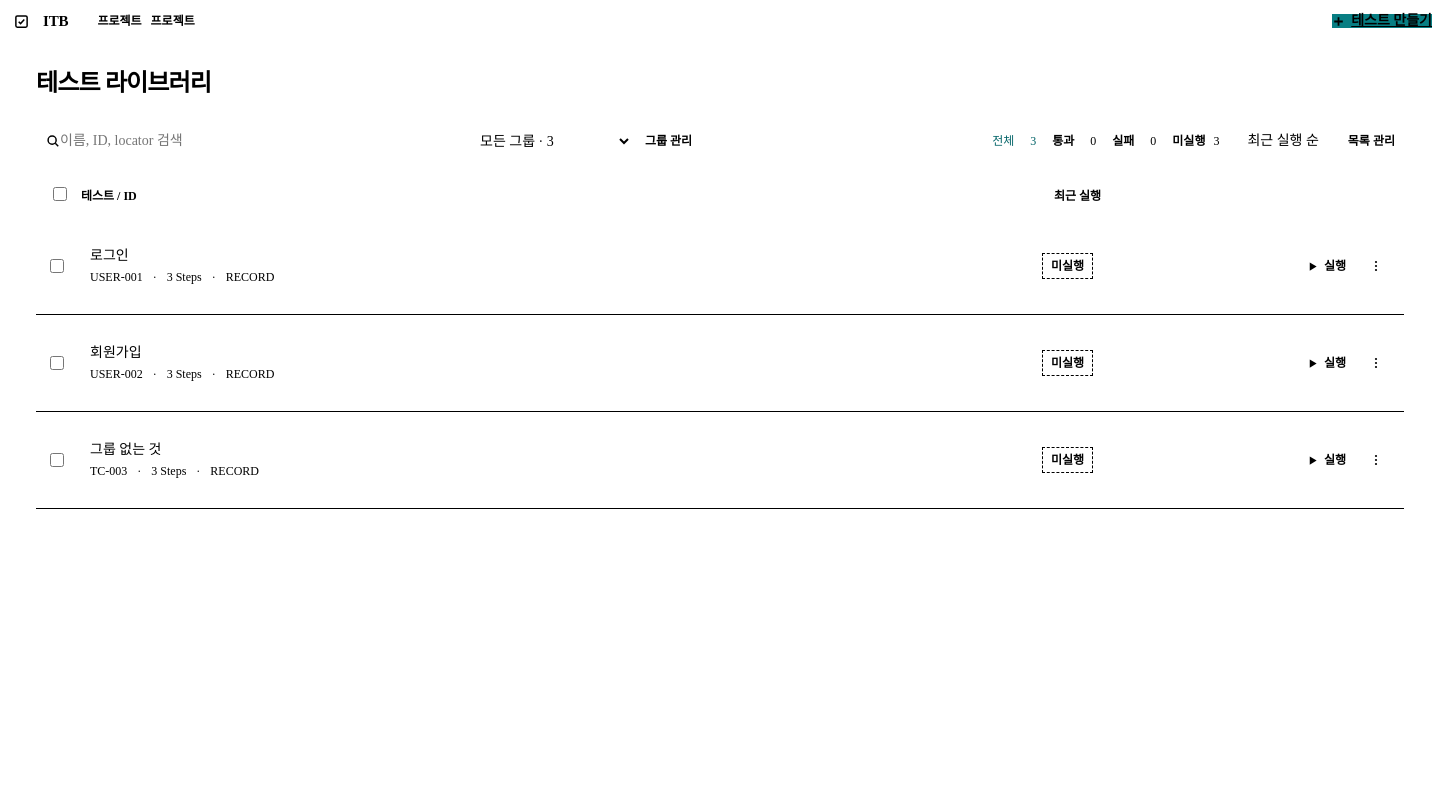
it: 그룹 만들기 › TC 를 접두어로 쓰면 요청 전에 막고 사유를 말한다 (FR-445a)
expect the text "로그인" is shown: met, box [90,248,129,263]
Click the button "그룹 관리" at (669, 141), box [636,134,701,148]
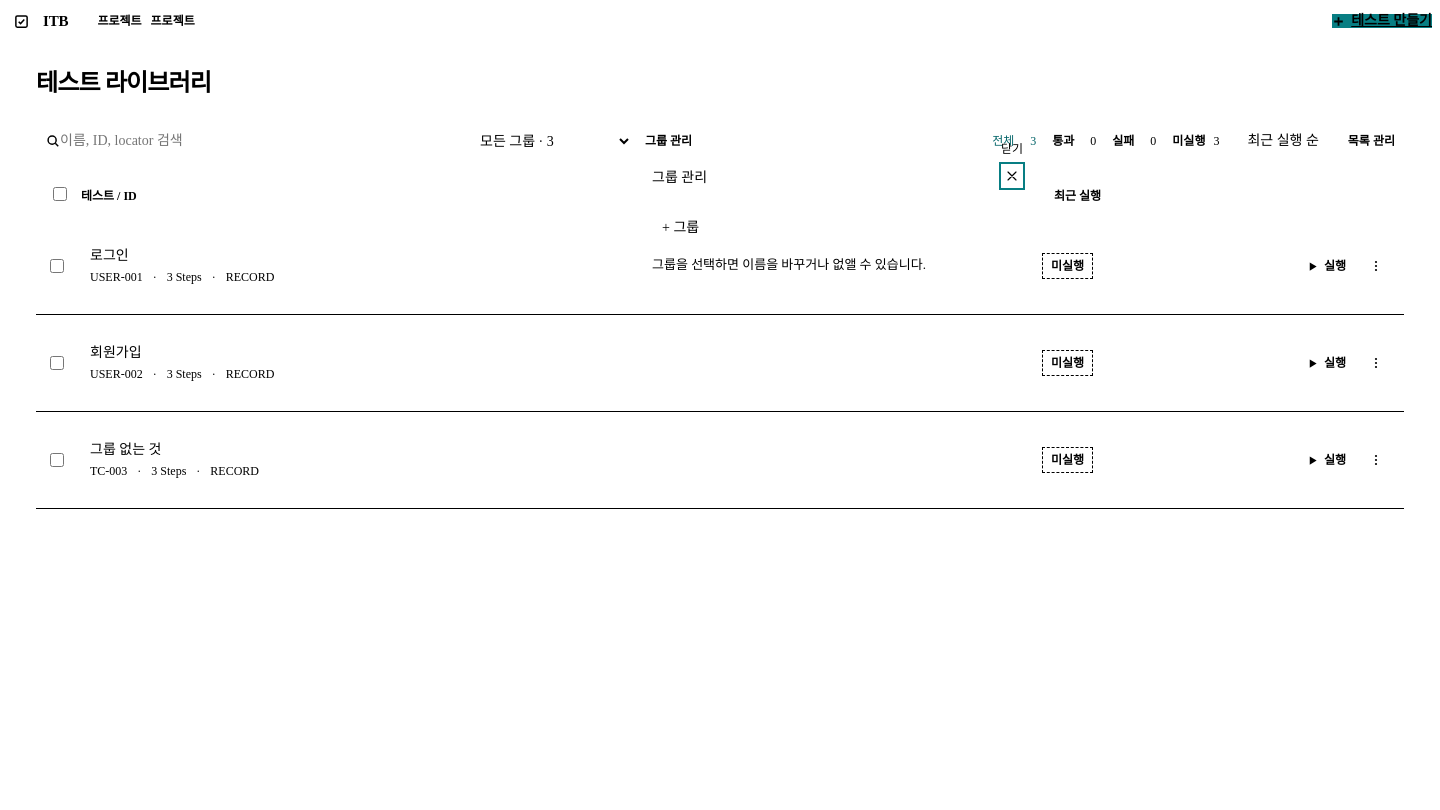
Click the button "+ 그룹" at (681, 228), box [652,214,709,242]
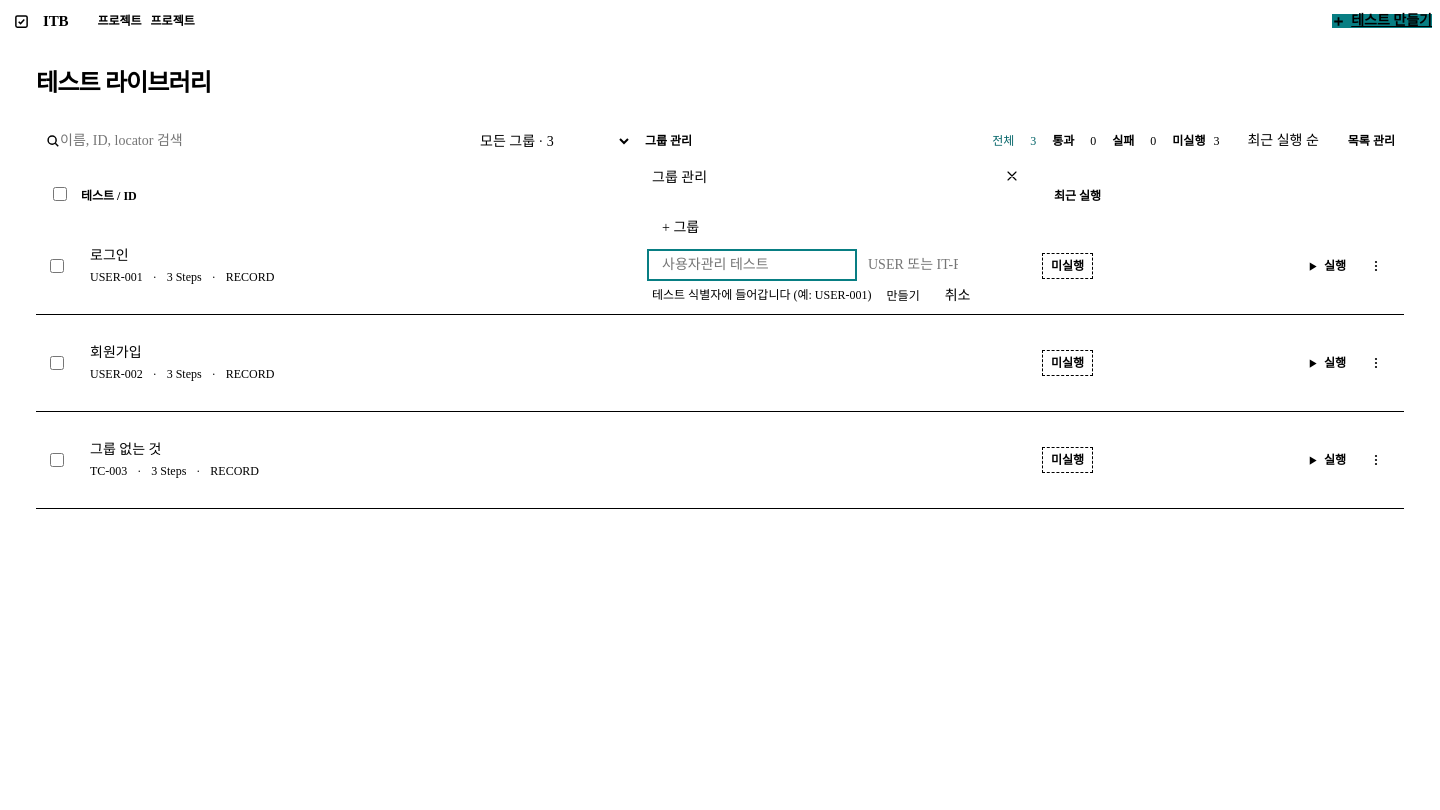
Type "가로채기" into the field named "그룹 이름" at (752, 265), box [652,254,852,276]
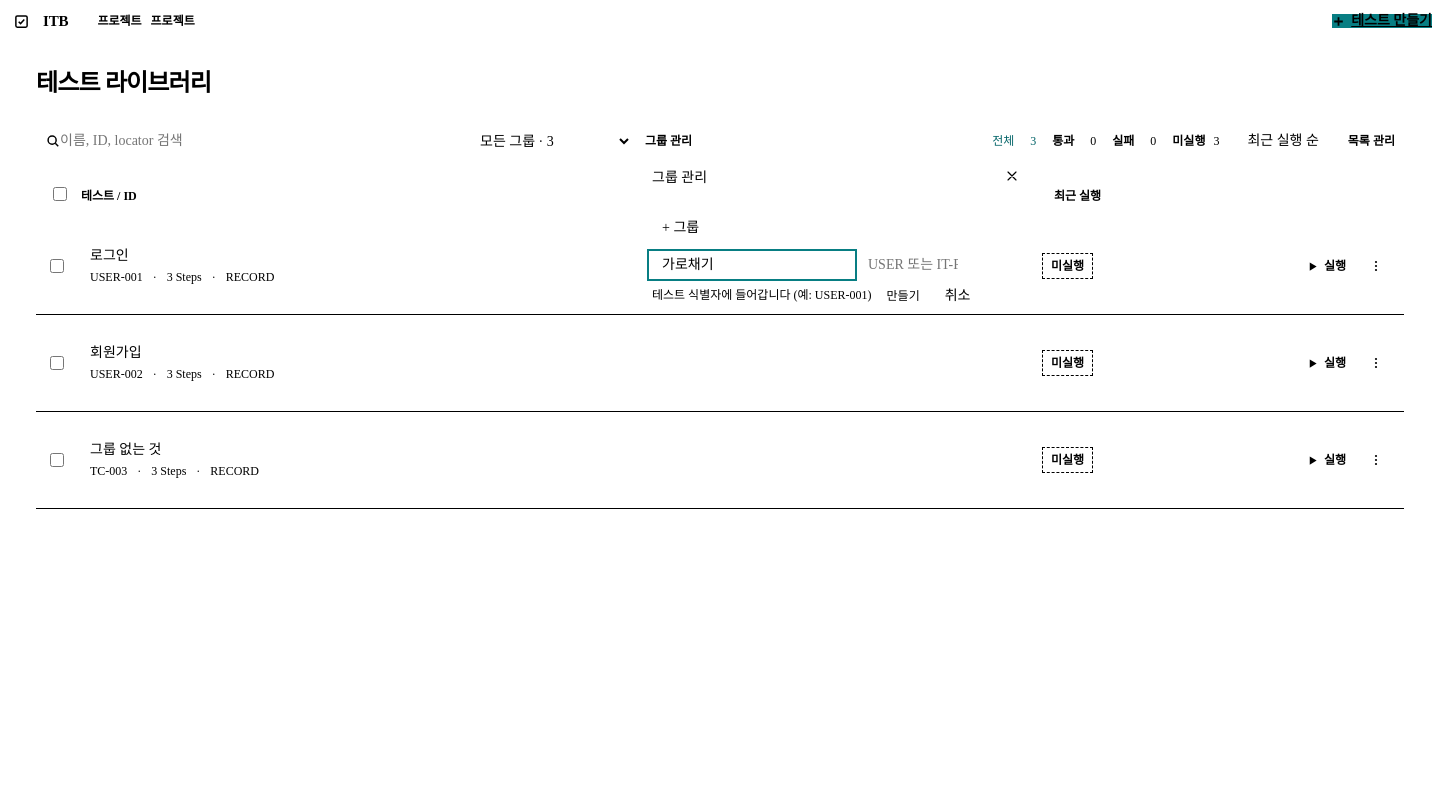
Type "TC" into the field named "그룹 접두어" at (913, 265), box [858,254,968,276]
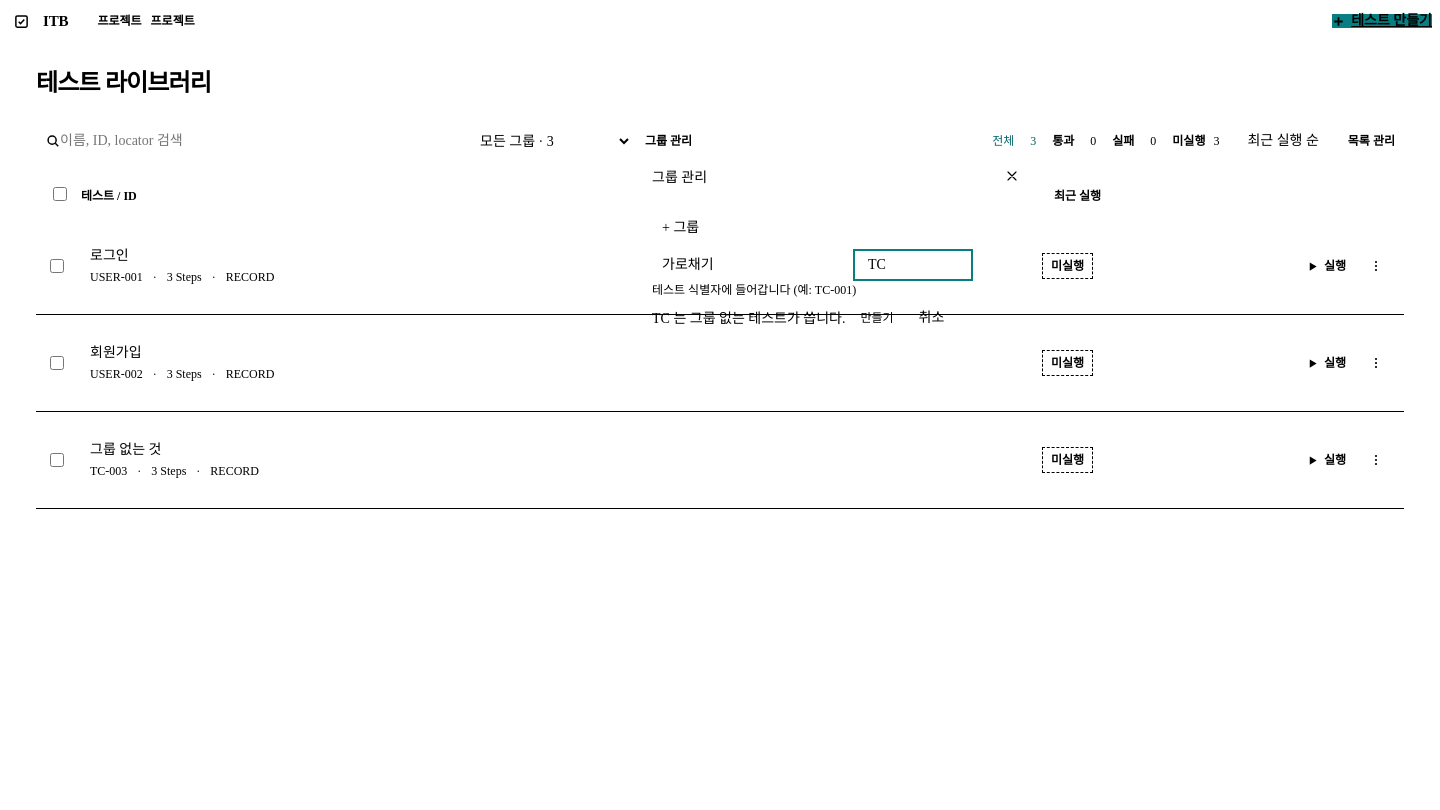
expect the button "만들기" is disabled: met, box [852,311,903,325]
expect the text "TC 는 그룹 없는 테스트가 씁니다." is shown: met, box [652,309,846,328]
